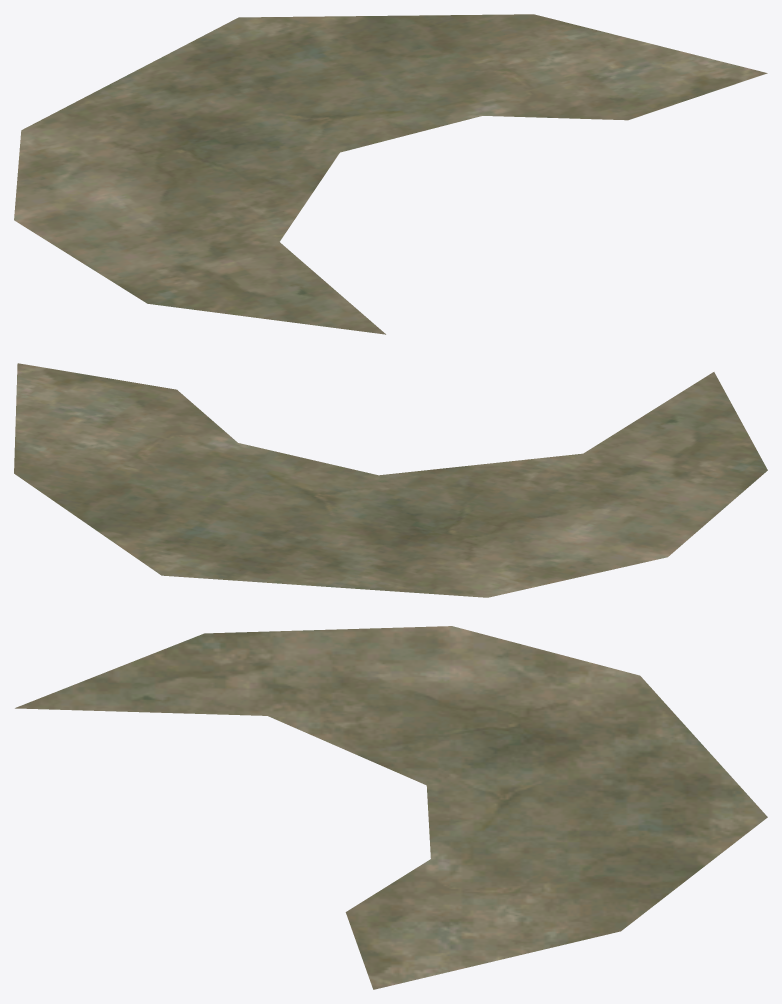
Rendered from OVERHILL_A_01_LINE89.fbx.
3 views of the same model, one above another, from view 1: azimuth 30°, elevation 25°; view 2: azimuth 150°, elevation 25°; view 3: azimuth 270°, elevation 25° (orthographic). The views are drawn at different scales.
Visible parts, largest first — view 1: OVERHILL_A_01_LINE89; view 2: OVERHILL_A_01_LINE89; view 3: OVERHILL_A_01_LINE89.
Boxes of the visible parts, <box> form: OVERHILL_A_01_LINE89: <box>14,14,767,334</box>; OVERHILL_A_01_LINE89: <box>14,363,767,597</box>; OVERHILL_A_01_LINE89: <box>15,626,767,989</box>.
Bounding box in the file's own units: 27203 × 0.00388 × 23821.
Materials: 1 (1 with a texture image).
